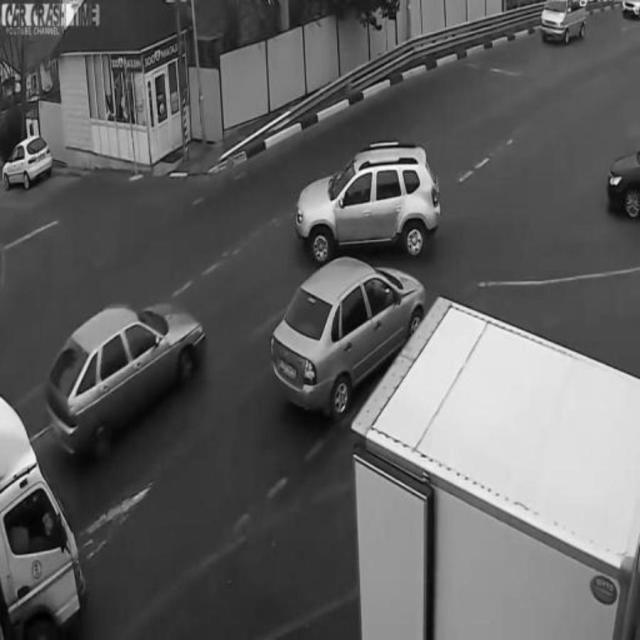vehicle: (49, 302, 203, 459), (272, 254, 426, 410), (0, 394, 84, 639), (294, 136, 445, 260), (4, 130, 51, 194), (537, 1, 592, 46), (604, 151, 640, 217)
